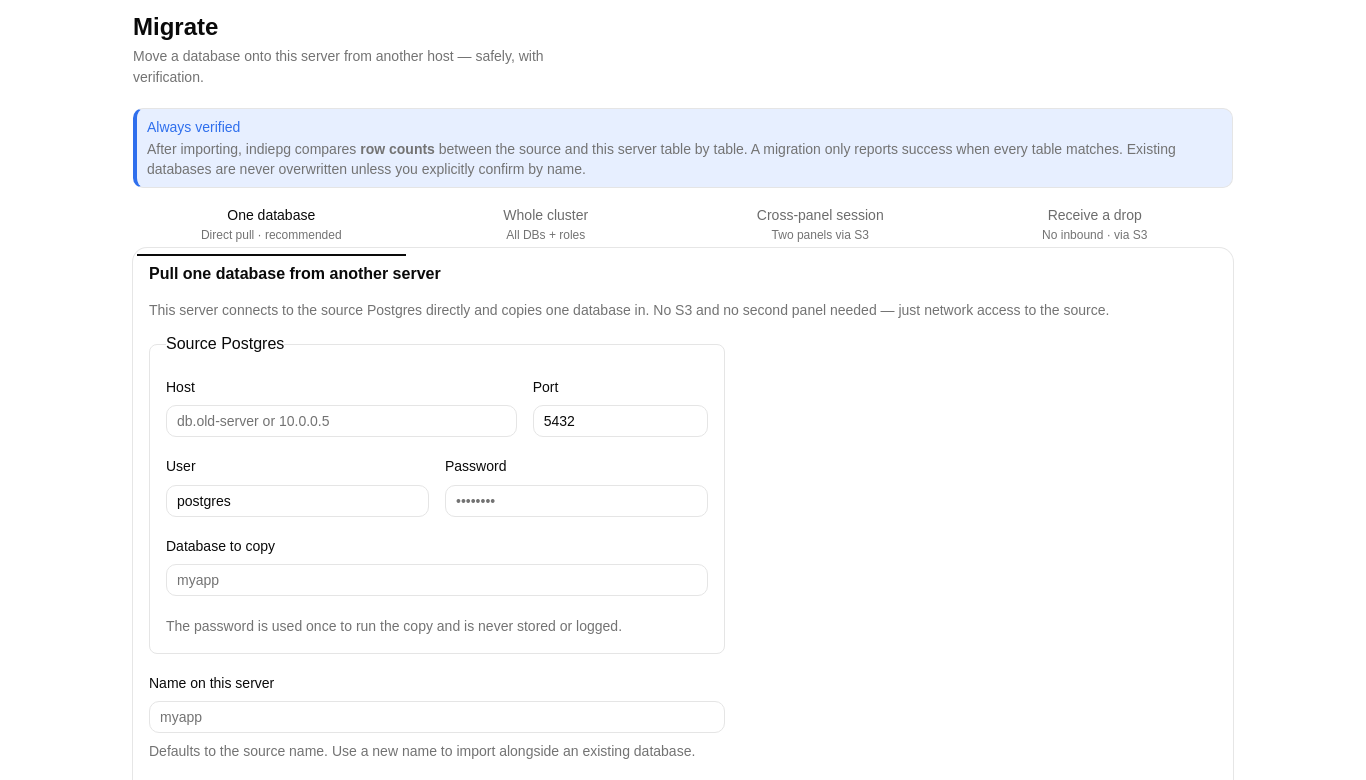
Migrate mode tabs › switching tabs swaps the active form (only one mode mounted at a time)
Radix Tabs activates on mousedown (button 0), not a synthetic click.
Press the mouse on the tab "Whole cluster All DBs + roles" at (546, 224), box top-left (410, 196), bottom-right (681, 252)
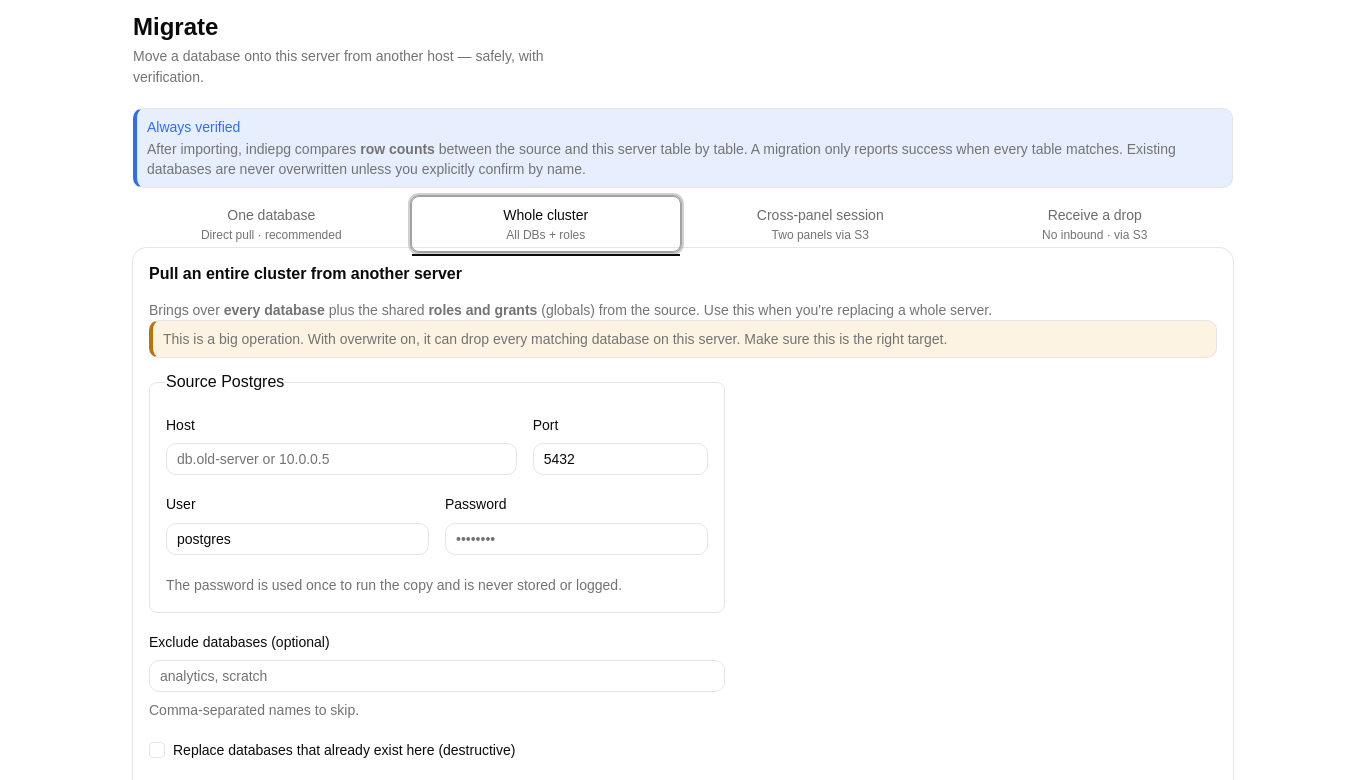
Result: the heading "Pull an entire cluster from another server" is shown at top-left (149, 265), bottom-right (462, 282)
Result: the heading "Pull one database from another server" is gone
